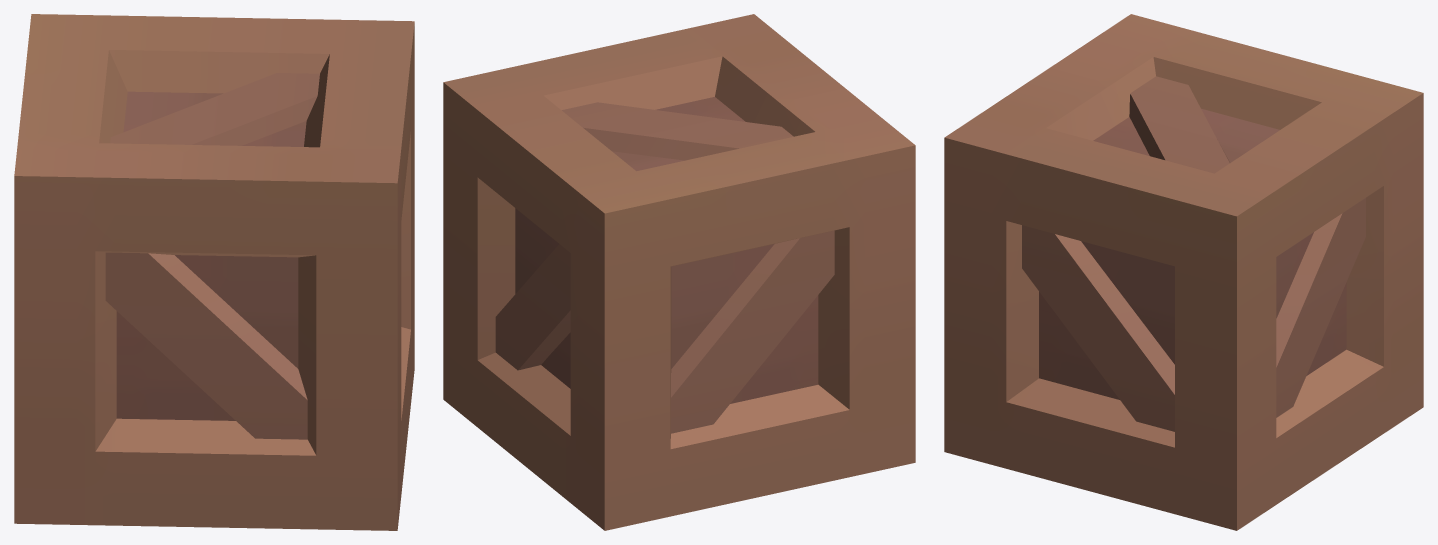
File: Crate_V2.glb
3 views of the same model, side by side, from view 1: azimuth 30°, elevation 25°; view 2: azimuth 150°, elevation 25°; view 3: azimuth 270°, elevation 25° (orthographic). The views are drawn at different scales.
Parts seen in each view (by area): view 1: ct_town_crate_2; view 2: ct_town_crate_2; view 3: ct_town_crate_2.
Part boxes in pixels (x1=…): ct_town_crate_2: x1=14, y1=14, x2=414, y2=530; ct_town_crate_2: x1=443, y1=14, x2=915, y2=530; ct_town_crate_2: x1=944, y1=14, x2=1423, y2=530.
Bounding box in the file's own units: 1.25 × 0.9055 × 1.25.
1 material, 1 textured.
